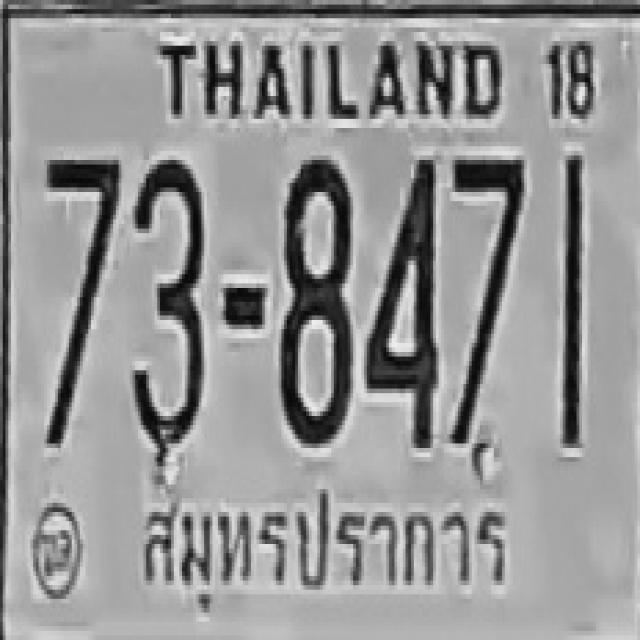1: (558, 148, 584, 446)
3: (130, 155, 204, 462)
4: (364, 155, 439, 448)
7: (45, 155, 122, 448), (450, 153, 524, 446)
8: (279, 156, 350, 444)
SamutPrakan: (133, 484, 520, 614)
